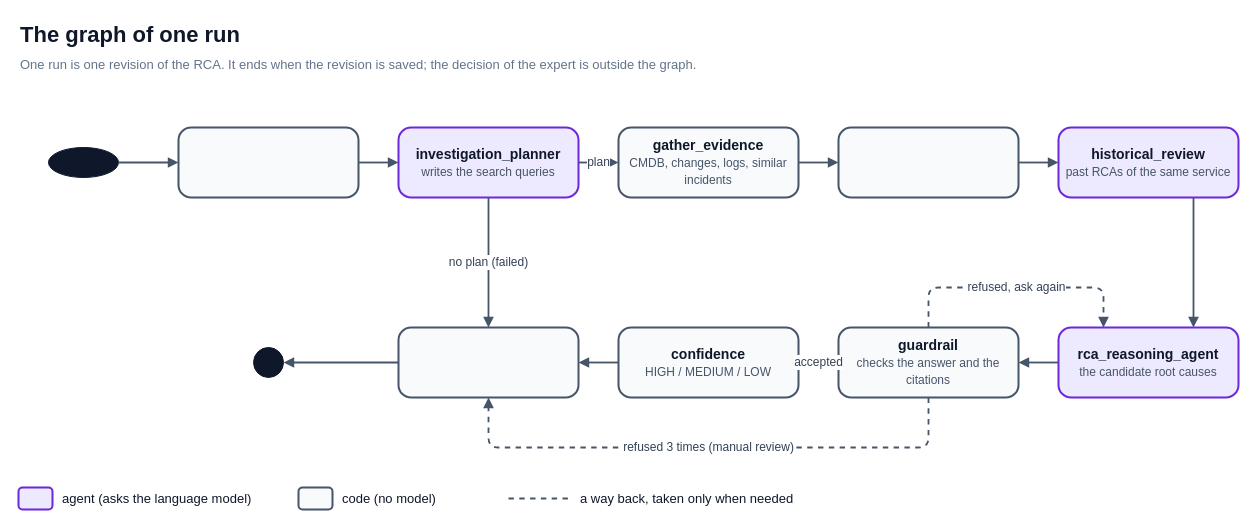
This 1256x527 diagram has some shape labels left out. Each missing label, with the centre of its shape:
"build_context problem, incidents, guidance" belongs at pixel 268 162.
"build_timeline the facts in time order" belongs at pixel 928 162.
"save_revision draft, manual review or failed" belongs at pixel 488 362.
